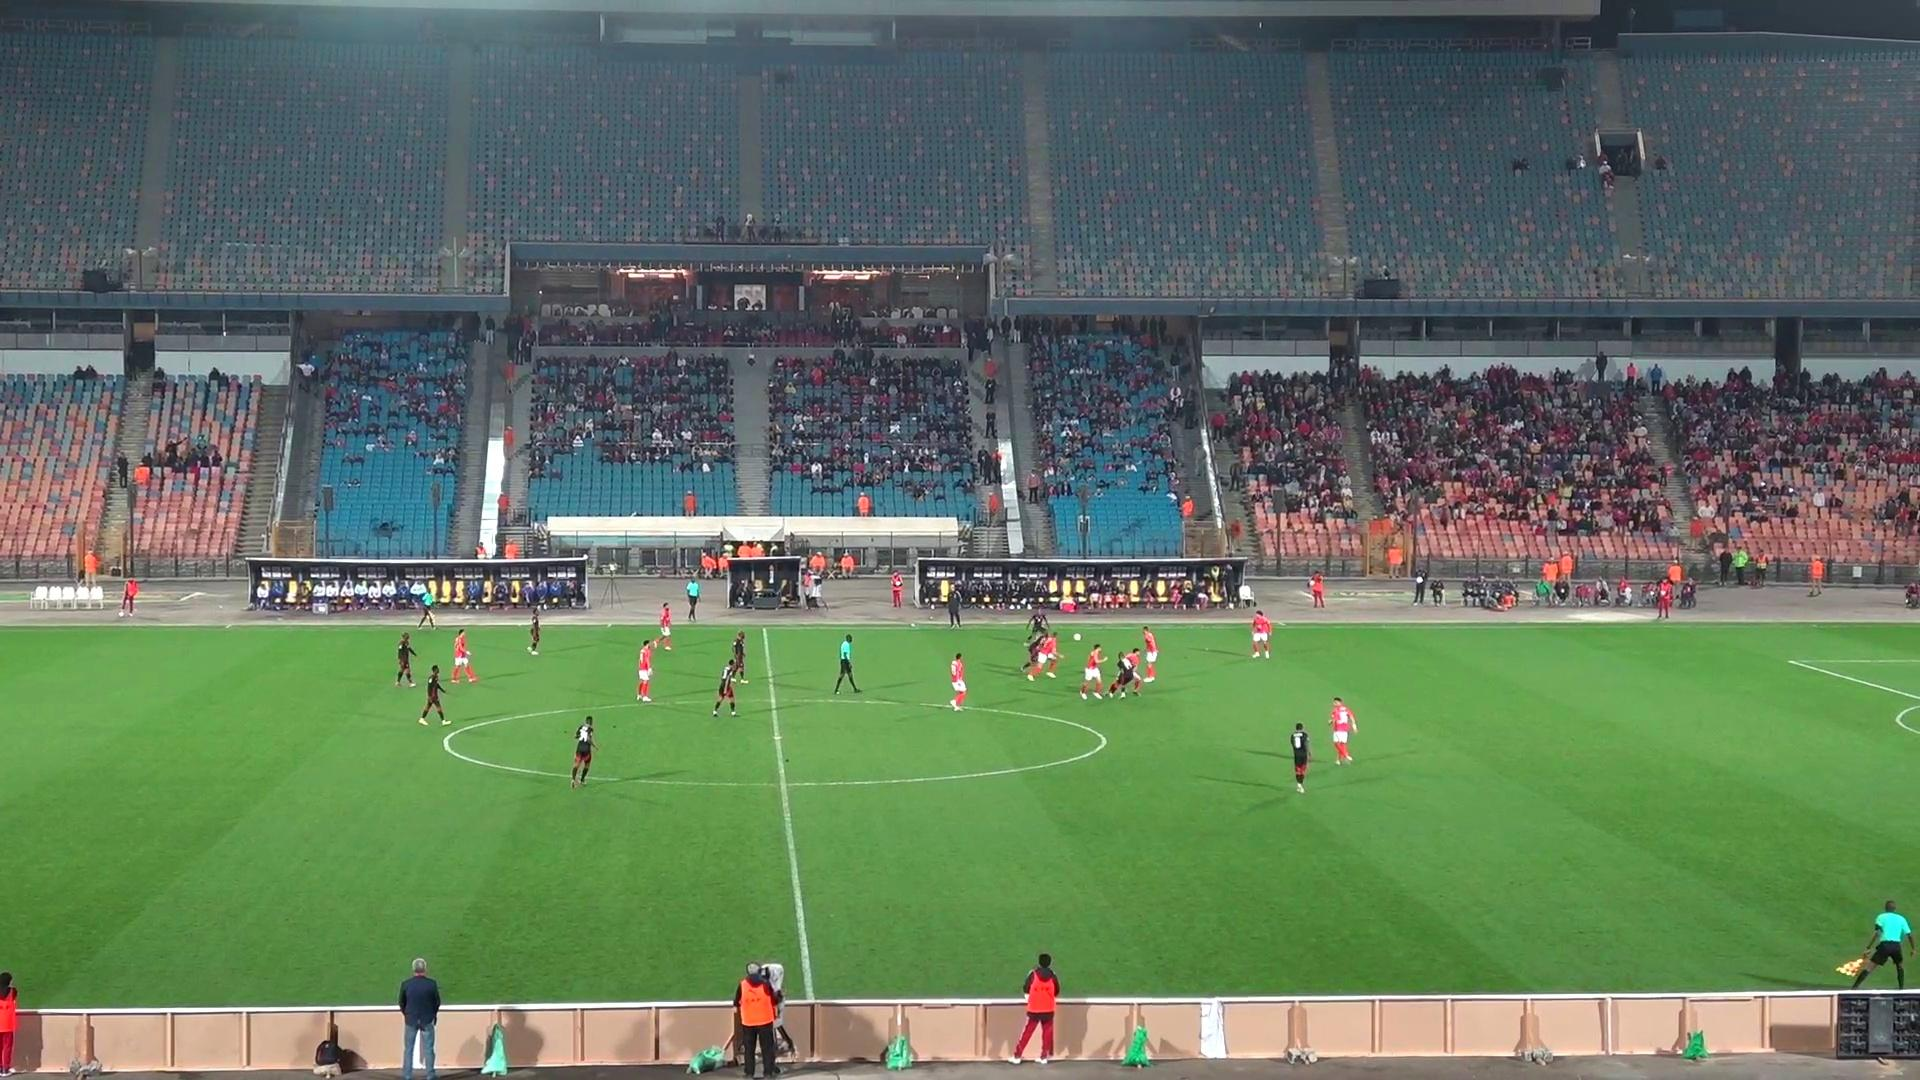Ball: (1072, 628, 1081, 641)
Refree: (1837, 901, 1913, 988), (832, 634, 861, 694), (407, 583, 434, 626), (684, 578, 702, 622)
Team1: (1329, 698, 1357, 764), (636, 638, 663, 702), (1027, 632, 1062, 680), (450, 626, 477, 682), (1079, 644, 1106, 699), (1124, 647, 1151, 694), (1137, 626, 1159, 682), (949, 653, 967, 709), (1251, 611, 1273, 655), (653, 603, 673, 650)
Team2: (568, 717, 596, 787), (712, 657, 744, 717), (419, 665, 448, 724), (1019, 624, 1048, 680), (1109, 647, 1141, 698), (1288, 723, 1311, 793), (1025, 605, 1051, 653), (393, 632, 415, 684), (729, 629, 749, 682), (527, 605, 541, 655)
